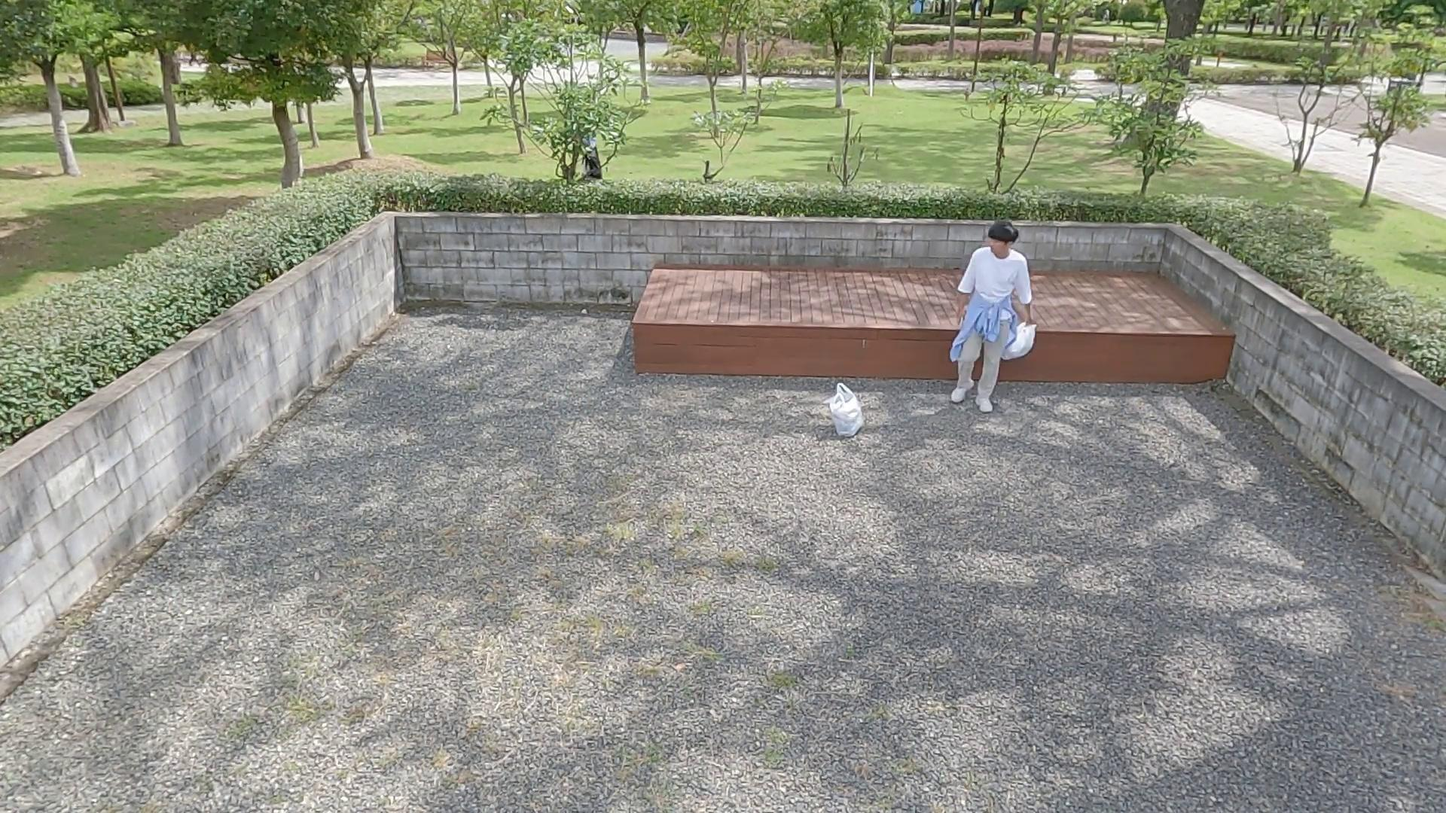person: (947, 221, 1040, 415)
trash: (826, 386, 871, 438), (1000, 321, 1039, 364)
